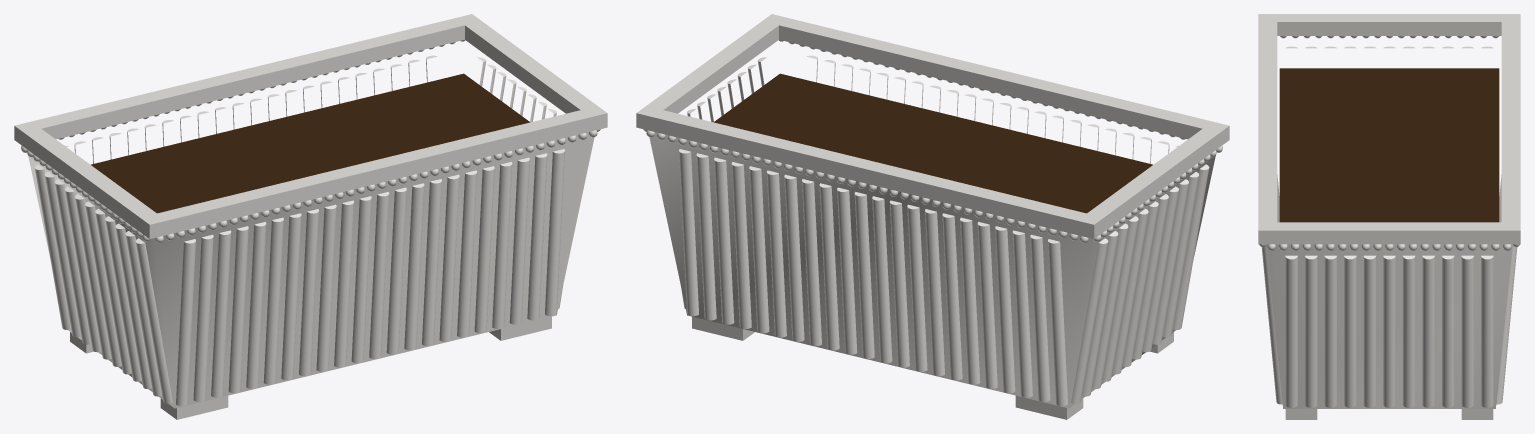
The picture shows the model from 3 angles, left to right: view 1: azimuth 30°, elevation 25°; view 2: azimuth 150°, elevation 25°; view 3: azimuth 270°, elevation 25°; orthographic projection. The views are drawn at different scales.
Visible parts, largest first — view 1: shell, soil, rim-top-f, rim-top-b, rim-f, rim-b, rim-top-l, rim-top-r, flute-0-20, flute-0-6, flute-0-13, flute-0-2 (+33 smaller); view 2: shell, soil, rim-top-b, rim-top-f, rim-b, rim-f, rim-top-l, rim-top-r, flute-1-1, flute-1-8, flute-1-15, flute-1-13 (+33 smaller); view 3: soil, shell, rim-top-f, rim-top-b, rim-top-l, rim-top-r, flute-2-4, flute-2-6, flute-2-0, flute-2-2, flute-2-3, flute-2-7 (+11 smaller).
Boxes of the visible parts, x1,y1,x2,y2 form: shell: (28, 132, 594, 408); soil: (91, 73, 529, 213); rim-top-f: (140, 106, 607, 230); rim-top-b: (14, 14, 481, 138); rim-f: (140, 119, 607, 238); rim-b: (14, 32, 464, 146); rim-top-l: (24, 129, 156, 223); rim-top-r: (465, 21, 597, 111); flute-0-20: (527, 153, 547, 320); flute-0-6: (281, 213, 301, 380); flute-0-13: (404, 183, 424, 350); flute-0-2: (211, 230, 231, 397); shell: (649, 132, 1215, 408); soil: (714, 73, 1152, 213); rim-top-b: (636, 106, 1103, 230); rim-top-f: (762, 14, 1229, 138); rim-b: (636, 119, 1103, 238); rim-f: (779, 32, 1229, 146); rim-top-l: (1087, 129, 1219, 223); rim-top-r: (646, 21, 778, 111); flute-1-1: (696, 153, 716, 320); flute-1-8: (819, 183, 839, 350); flute-1-15: (942, 213, 962, 380); flute-1-13: (907, 204, 927, 371); soil: (1279, 68, 1499, 222); shell: (1266, 244, 1512, 408); rim-top-f: (1258, 14, 1277, 236); rim-top-b: (1501, 14, 1520, 236); rim-top-l: (1277, 14, 1501, 28); rim-top-r: (1277, 222, 1501, 236); flute-2-4: (1363, 255, 1376, 407); flute-2-6: (1402, 255, 1415, 407); flute-2-0: (1285, 255, 1297, 407); flute-2-2: (1324, 255, 1336, 407); flute-2-3: (1344, 255, 1356, 407); flute-2-7: (1422, 255, 1434, 407).
Size of the model in its own units: 0.8 by 0.36 by 0.41.
